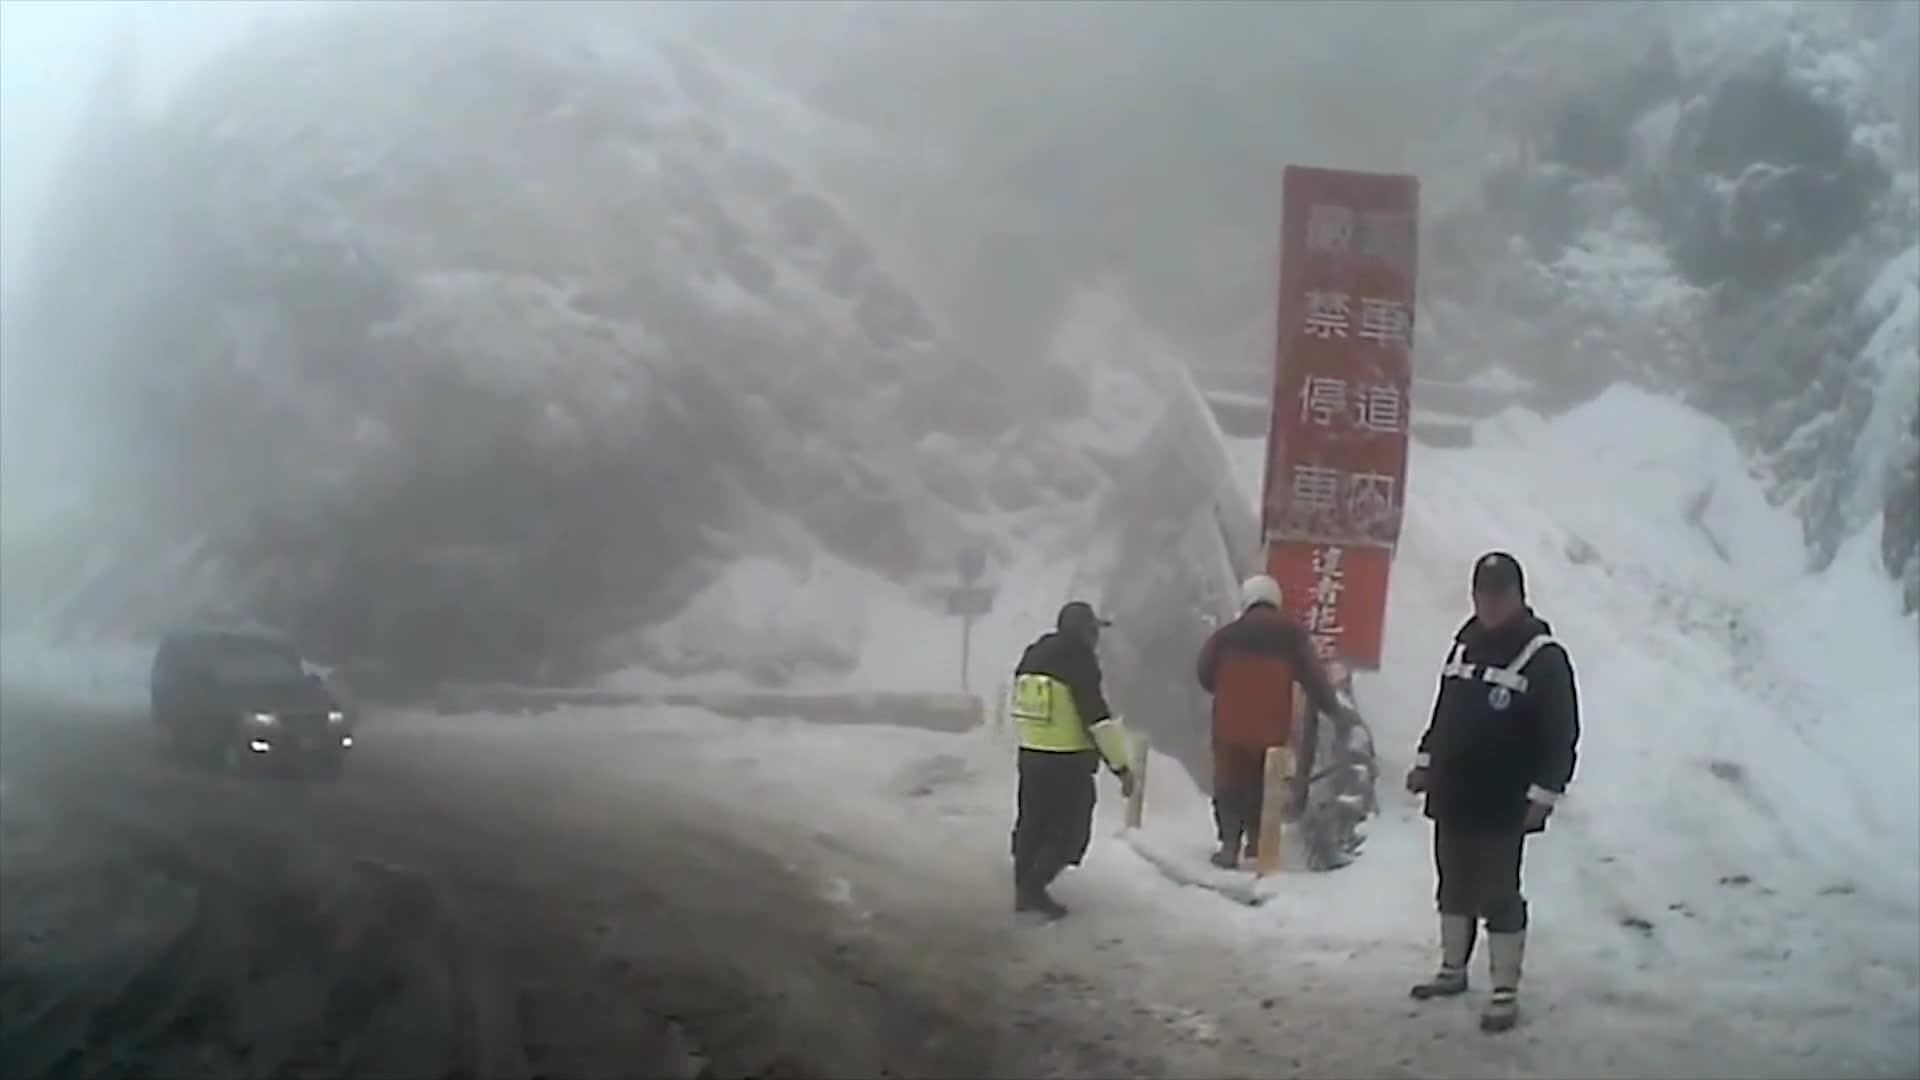pedestrian: (1404, 549, 1583, 1034), (1201, 578, 1351, 871), (997, 610, 1116, 924)
vehicle: (145, 632, 352, 784)
